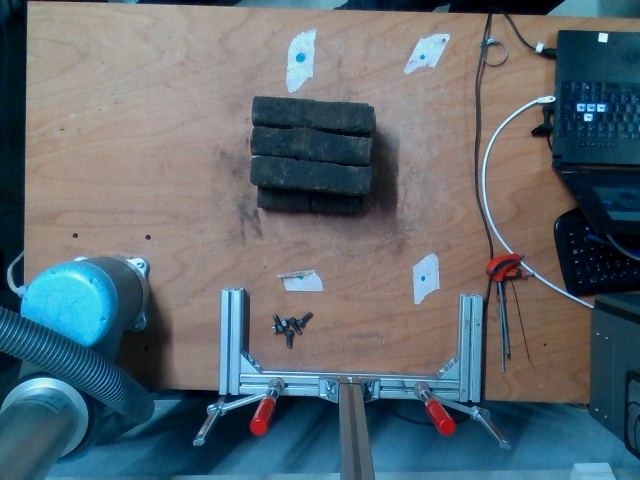brick-side: (252, 155, 369, 195), (255, 125, 372, 165), (251, 98, 373, 127)
